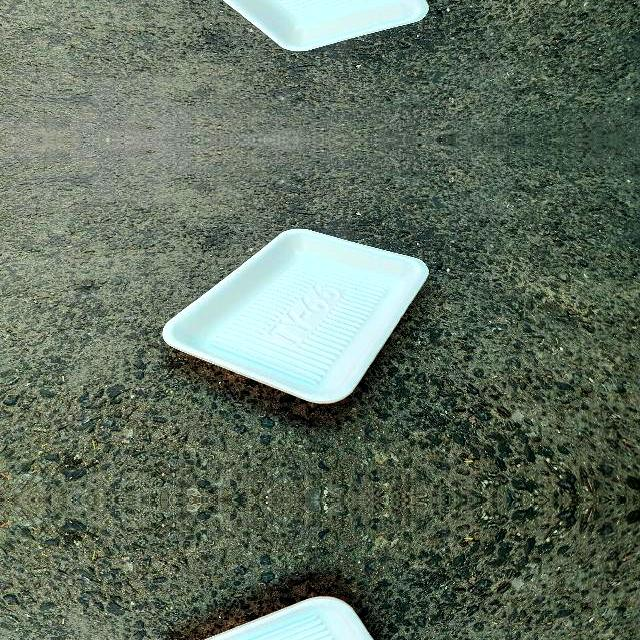Styrofoam: (160, 227, 430, 405), (162, 229, 429, 403), (160, 0, 429, 53), (160, 595, 429, 640), (222, 0, 429, 51)
